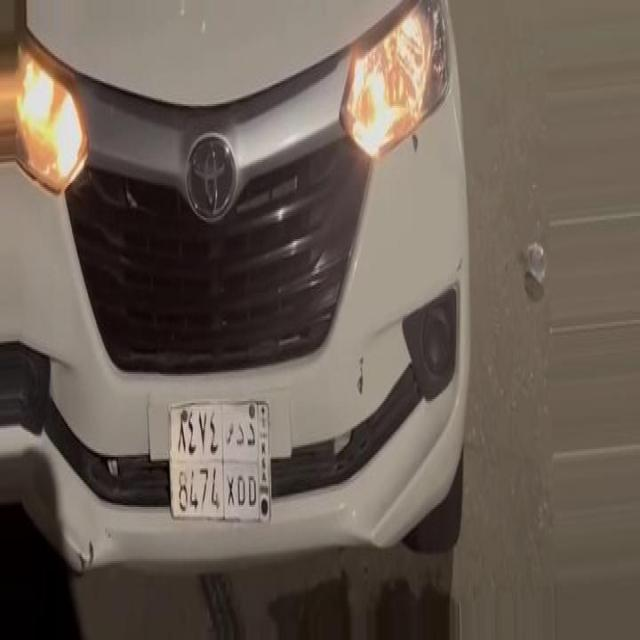Car-plate: (160, 376, 289, 549)
